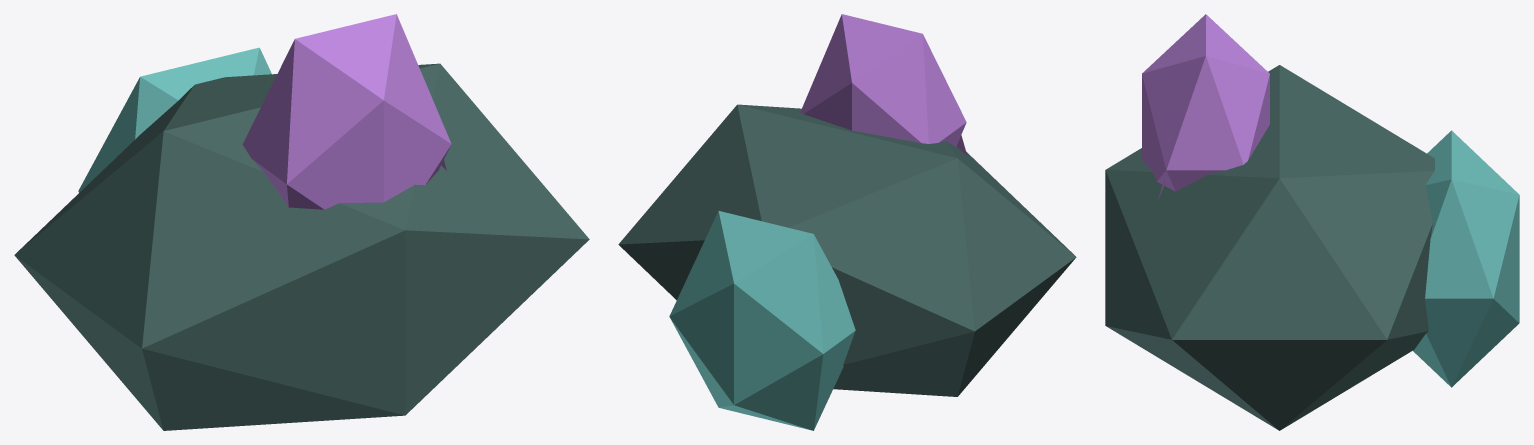
File: enemy_spitter.glb
3 views of the same model, side by side, from view 1: azimuth 30°, elevation 25°; view 2: azimuth 150°, elevation 25°; view 3: azimuth 270°, elevation 25° (orthographic). The views are drawn at different scales.
Visible parts, largest first — view 1: body, toxic_spines, throat_sac; view 2: body, throat_sac, toxic_spines; view 3: body, throat_sac, toxic_spines.
Part boxes in pixels (bbox=[...]): body: bbox=[14, 63, 589, 430]; toxic_spines: bbox=[242, 14, 451, 209]; throat_sac: bbox=[78, 47, 271, 192]; body: bbox=[618, 104, 1076, 396]; throat_sac: bbox=[669, 211, 855, 430]; toxic_spines: bbox=[800, 14, 966, 146]; body: bbox=[1105, 65, 1434, 430]; throat_sac: bbox=[1413, 130, 1519, 387]; toxic_spines: bbox=[1142, 14, 1269, 191].
Size of the model in its own units: 1.06 by 0.9142 by 1.01.
